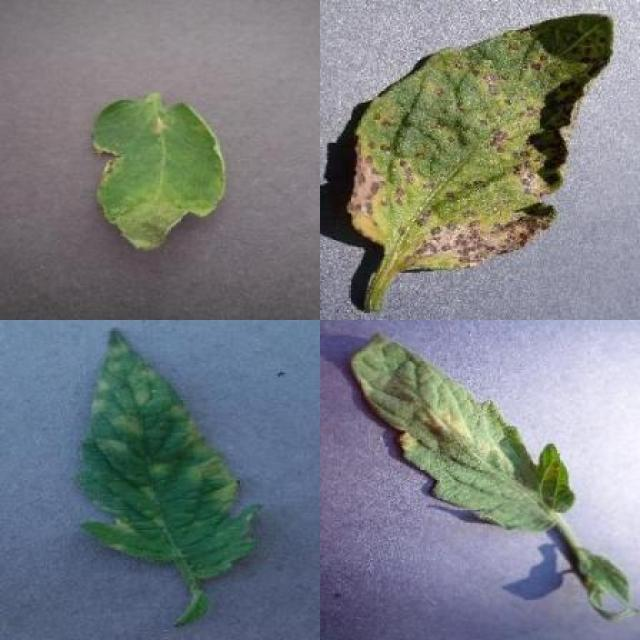Late Blight: (89, 97, 225, 253)
Leaf Mold: (74, 326, 262, 581), (352, 332, 577, 532)
Septoria: (348, 11, 615, 272)
